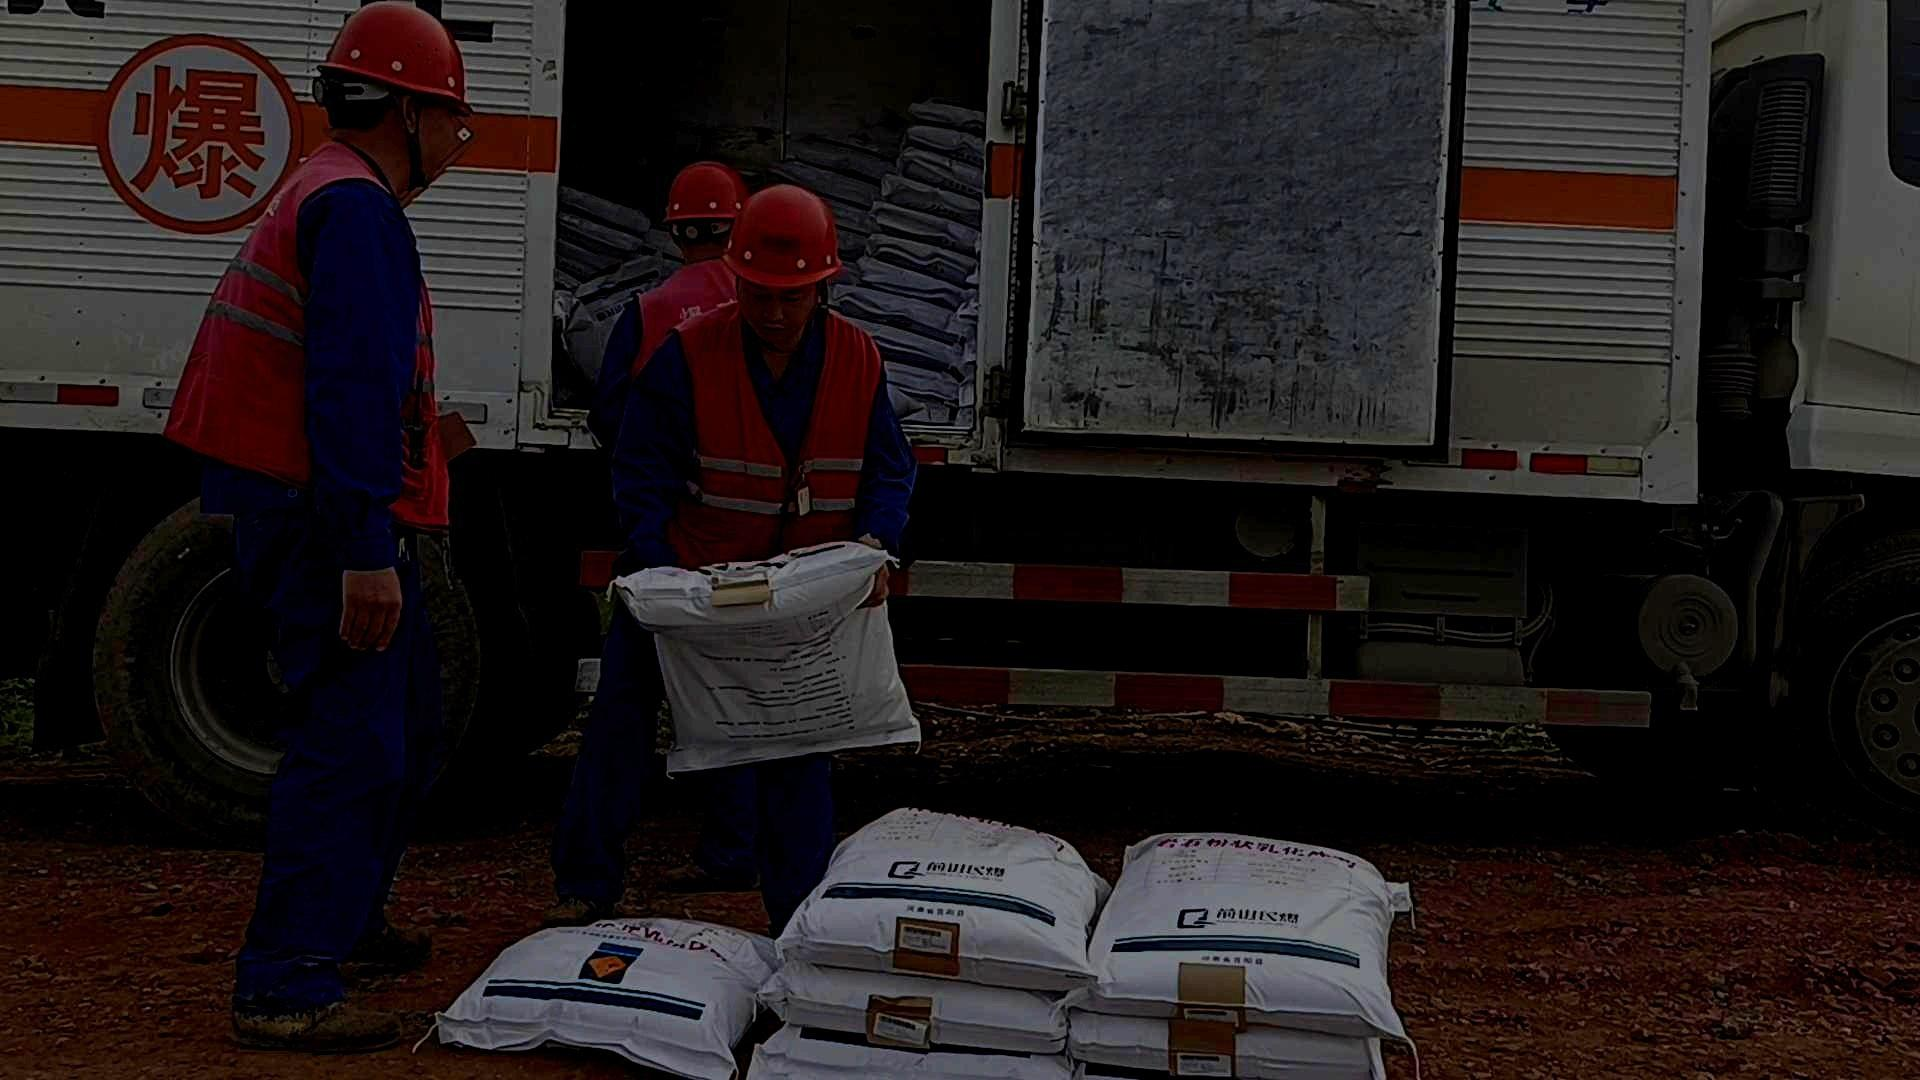helmet: (310, 1, 473, 191), (721, 182, 843, 343), (657, 160, 752, 255)
